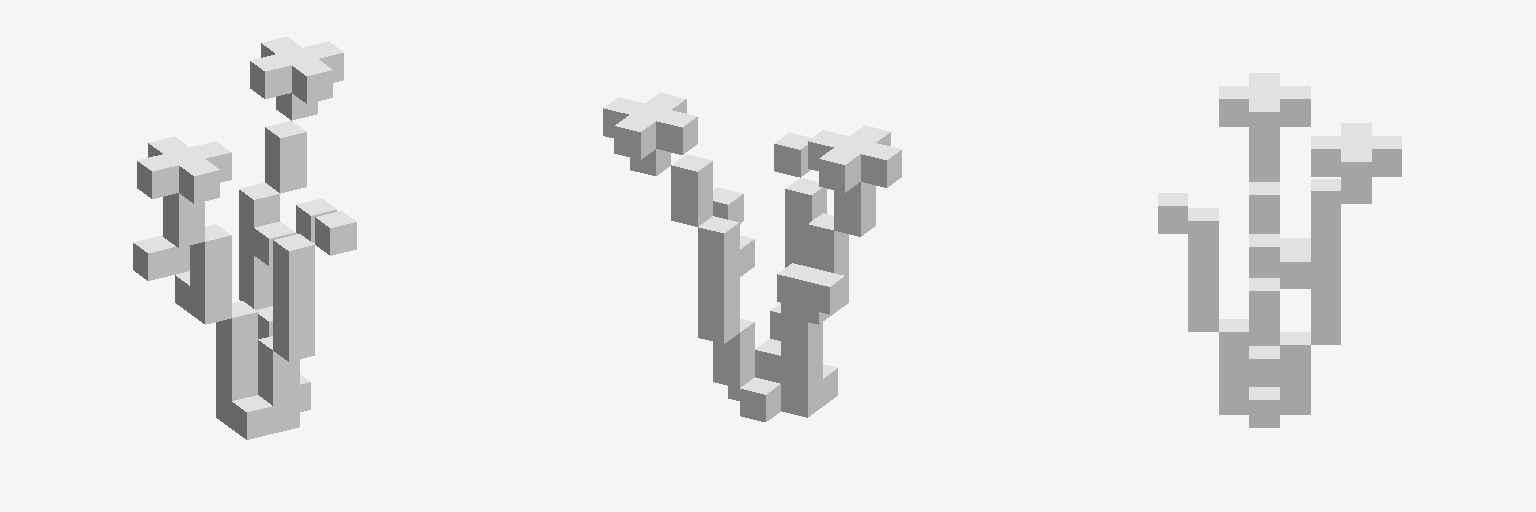
Rendered from Chamomile.obj.
The picture shows the model from 3 angles: view 1: azimuth 30°, elevation 25°; view 2: azimuth 150°, elevation 25°; view 3: azimuth 270°, elevation 25°; orthographic projection.
Parts seen in each view (by area): view 1: Chamomile; view 2: Chamomile; view 3: Chamomile.
Boxes of the visible parts, <box> form: Chamomile: <box>133,37,356,439</box>; Chamomile: <box>603,92,901,421</box>; Chamomile: <box>1158,73,1401,427</box>.
Bounding box in the file's own units: 9 × 11 × 8.